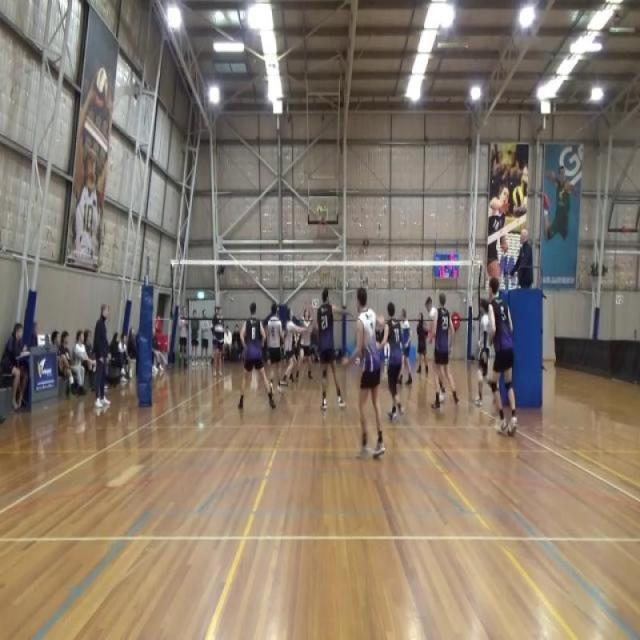volleyball: (94, 66, 108, 110), (512, 184, 525, 208), (315, 204, 323, 218)
